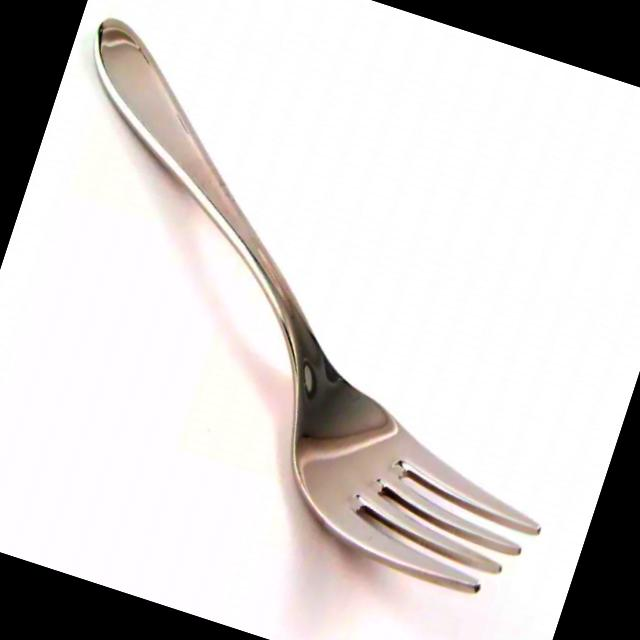fork: (0, 12, 640, 613)
